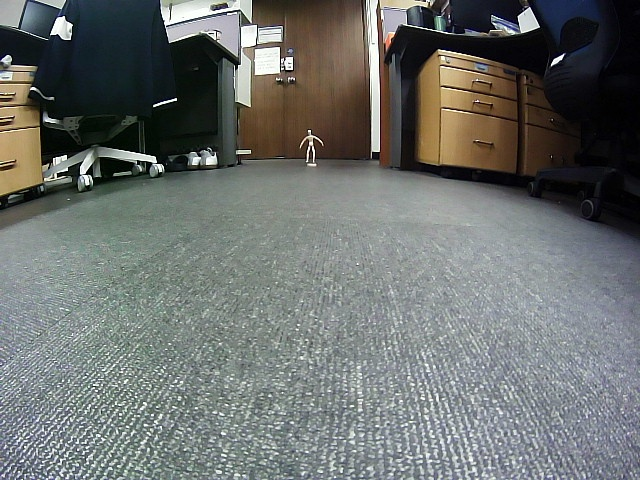person: (299, 129, 323, 162)
